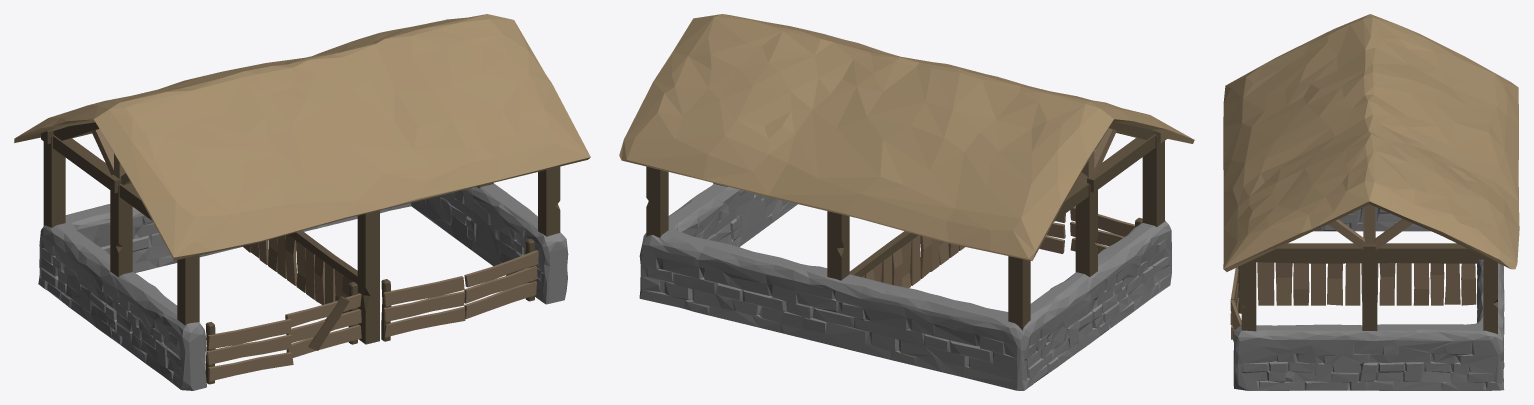
The model's file is stable_e.FBX.
3 views of the same model, side by side, from view 1: azimuth 30°, elevation 25°; view 2: azimuth 150°, elevation 25°; view 3: azimuth 270°, elevation 25° (orthographic). The views are drawn at different scales.
Visible parts, largest first — view 1: stable_e; view 2: stable_e; view 3: stable_e.
Boxes of the visible parts, x1,y1,x2,y2 form: stable_e: (14, 14, 590, 390); stable_e: (619, 14, 1194, 390); stable_e: (1223, 14, 1519, 390).
Bounding box in the file's own units: 8.91 × 4.7 × 6.02.
